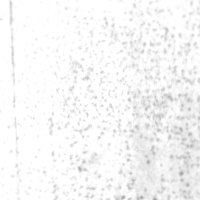pitted_surface: (44, 1, 200, 200)
